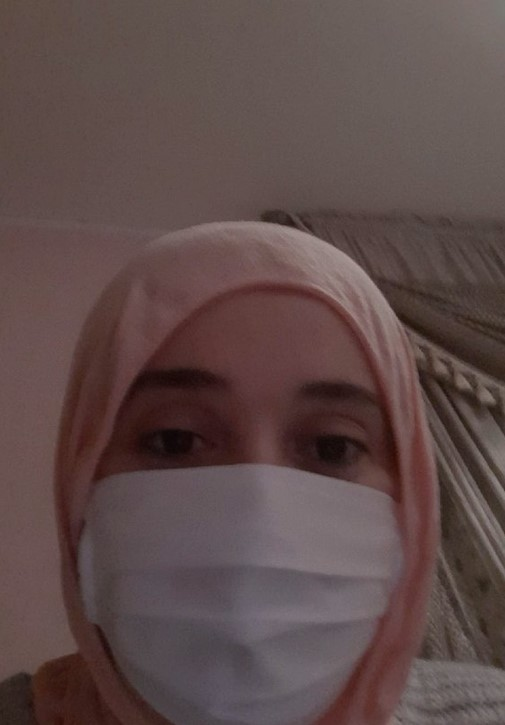face_with_mask: (65, 216, 439, 719)
